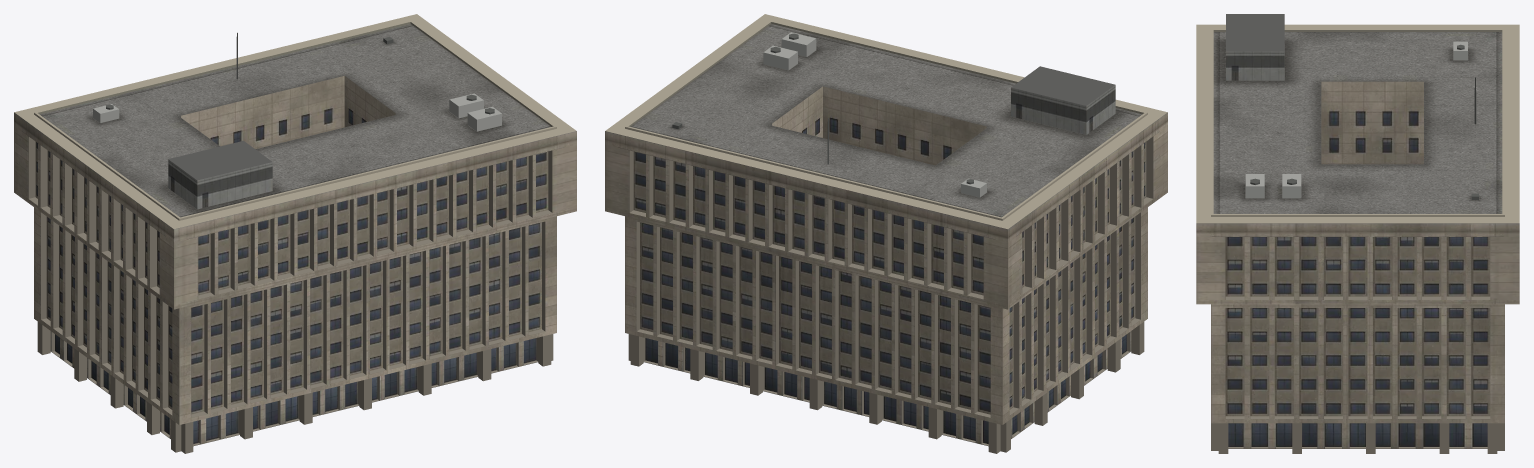
The model's file is dc_brutal_b.glb.
3 views of the same model, side by side, from view 1: azimuth 30°, elevation 25°; view 2: azimuth 150°, elevation 25°; view 3: azimuth 270°, elevation 25° (orthographic).
Parts seen in each view (by area): view 1: dc_brutal_b; view 2: dc_brutal_b; view 3: dc_brutal_b.
Boxes of the visible parts, x1=… form: dc_brutal_b: x1=14, y1=14, x2=576, y2=453; dc_brutal_b: x1=605, y1=14, x2=1167, y2=453; dc_brutal_b: x1=1196, y1=14, x2=1519, y2=453.
Bounding box in the file's own units: 64 × 42.6 × 44.
Materials: 1 (1 with a texture image).
